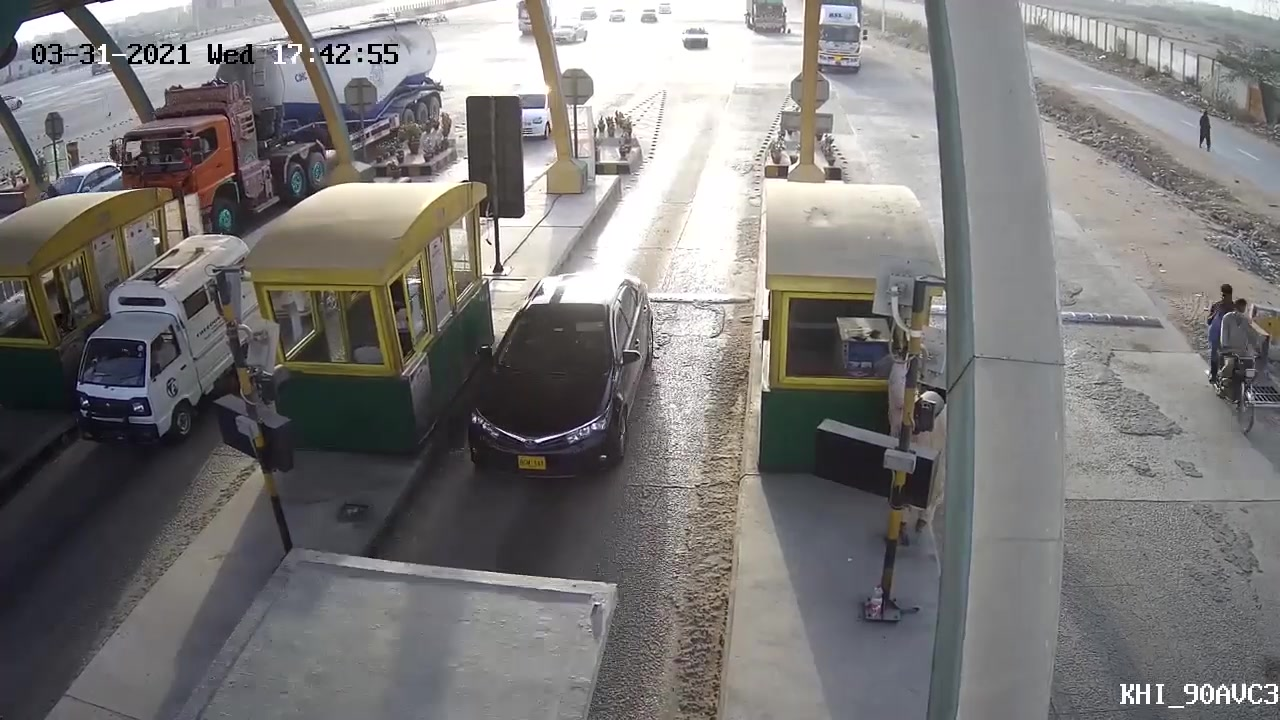F1: (461, 262, 662, 499)
